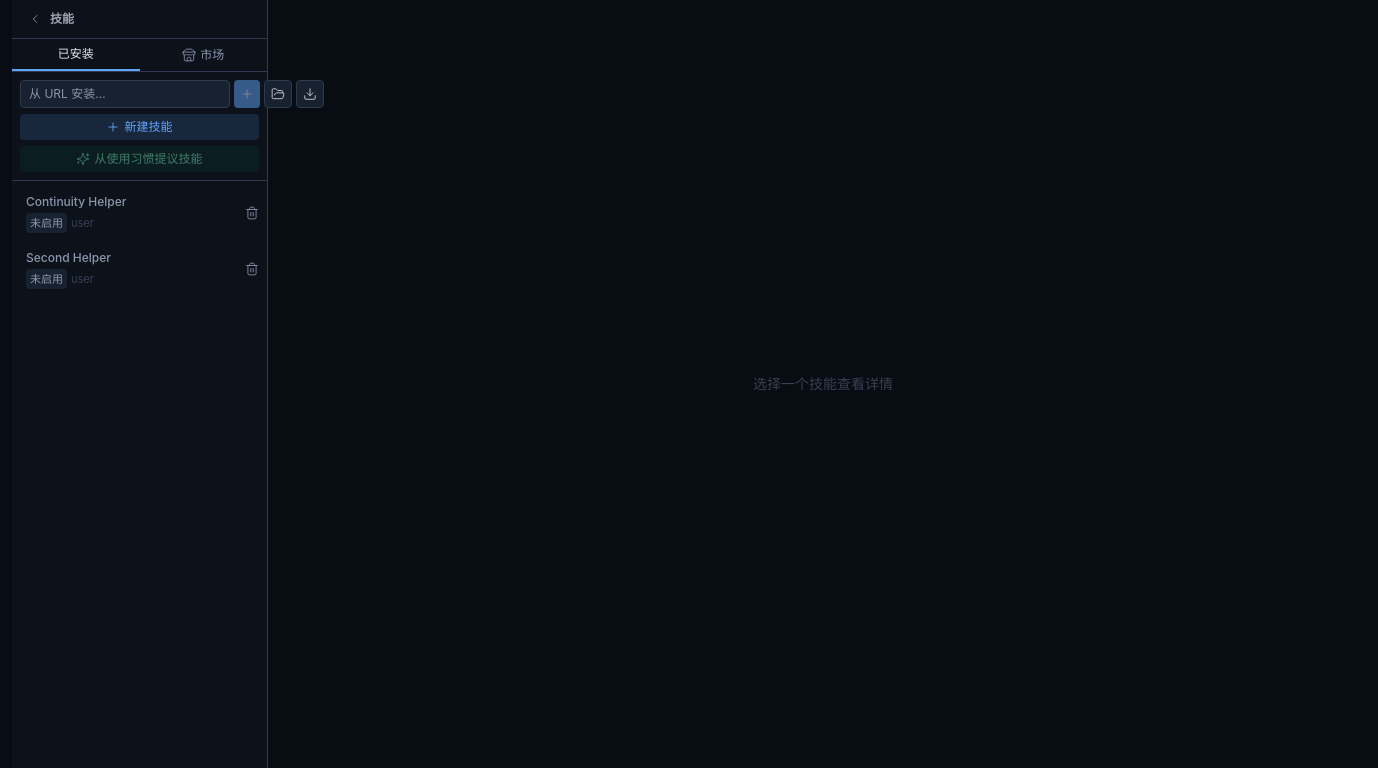
Test: Skill lifecycle continuity › ignores an older detail response after the user selects a different Skill
This screenshot has width=1378, height=768.
Click the button with aria-label "查看 Continuity Helper" at (124, 213), box x1=12 y1=185 x2=237 y2=241
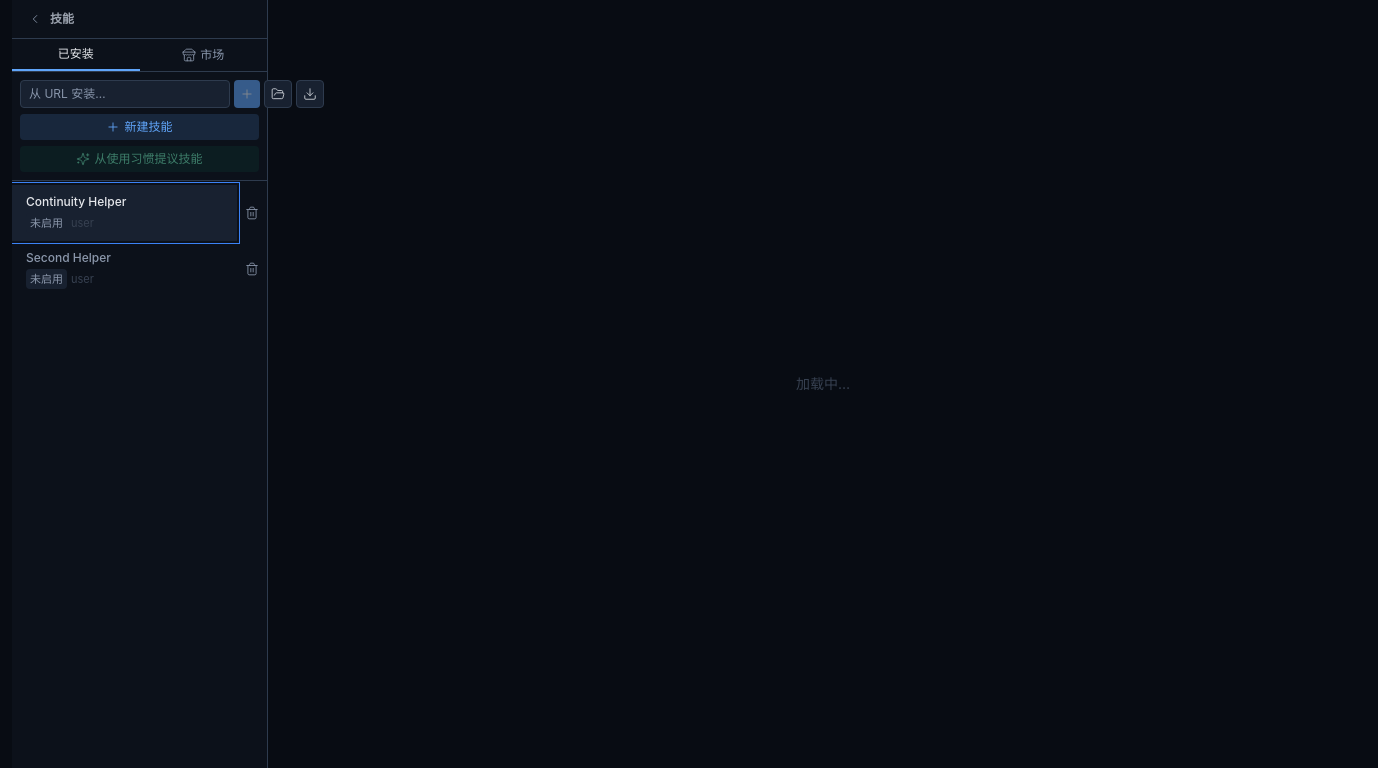
Click the button with aria-label "查看 Second Helper" at (124, 269), box x1=12 y1=241 x2=237 y2=297
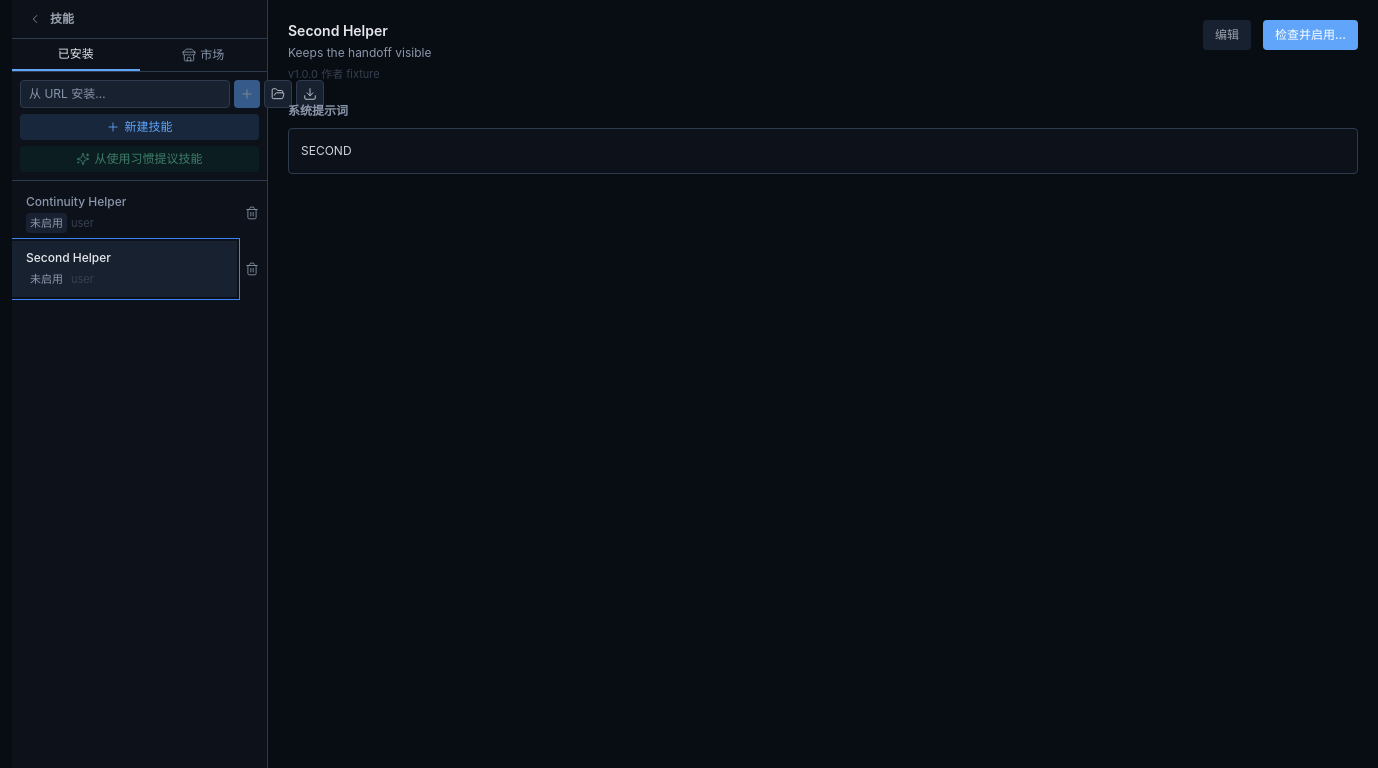
expect the heading "Second Helper" is shown: met, box x1=288 y1=22 x2=388 y2=39
